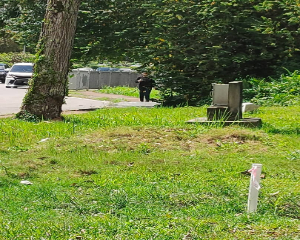stand: (135, 64, 157, 109)
